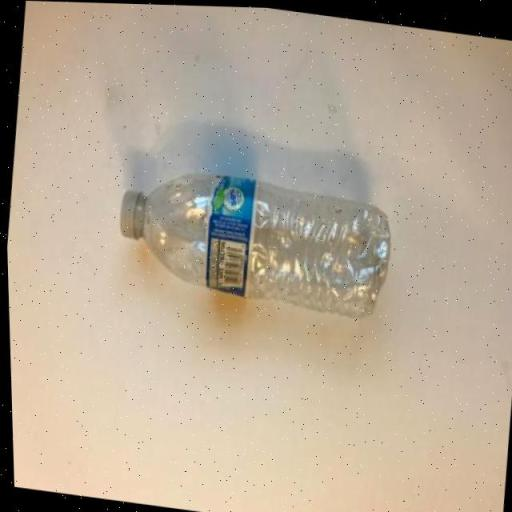plastic: (106, 154, 396, 324)
